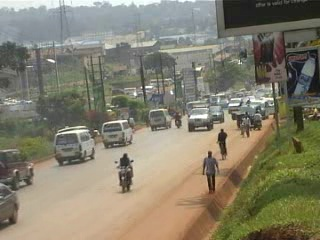Car: (0, 144, 36, 191), (0, 178, 20, 230), (187, 103, 215, 134), (209, 104, 225, 126), (227, 95, 243, 114), (230, 106, 244, 121)
Motorcycle: (112, 154, 135, 192), (171, 111, 183, 128)
